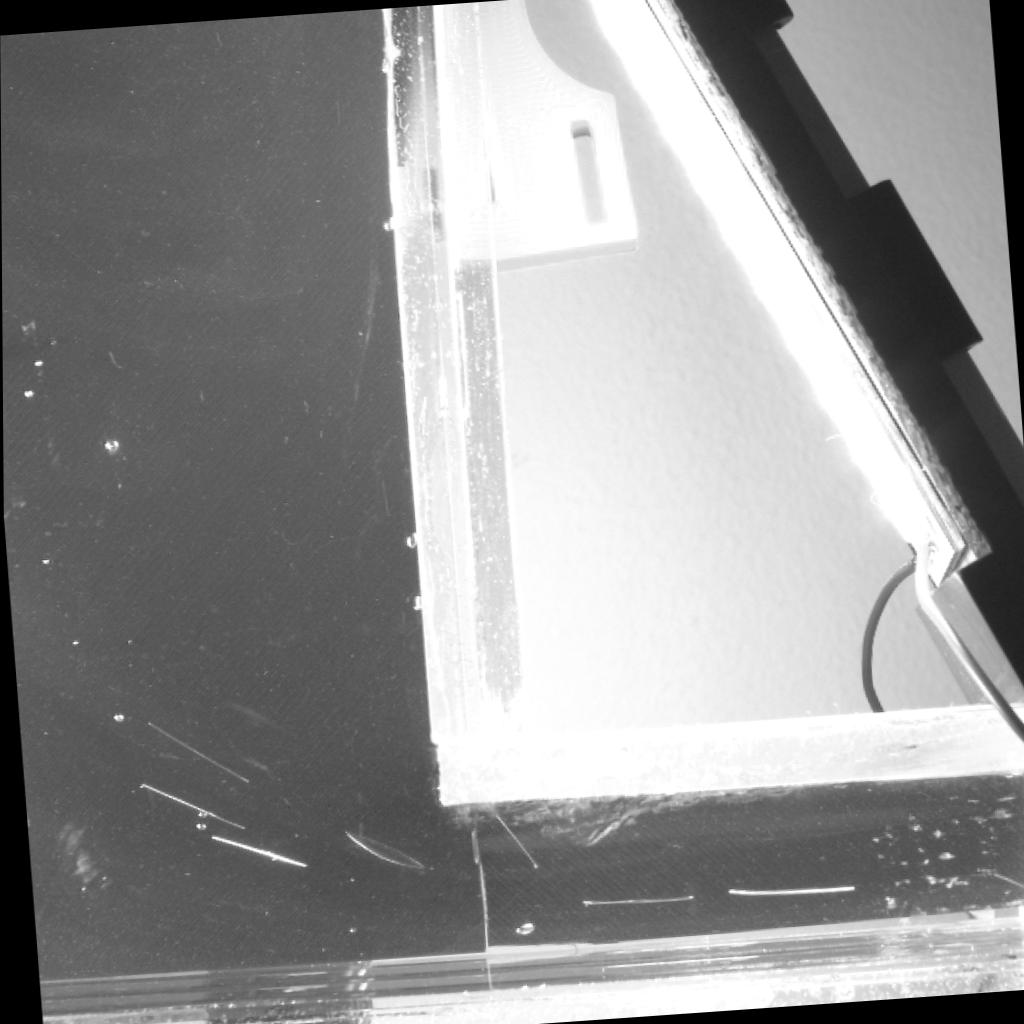Fiber: (142, 718, 255, 787), (137, 778, 245, 834), (207, 833, 307, 872), (489, 811, 540, 871), (725, 880, 855, 899), (579, 891, 694, 908), (991, 870, 1024, 891)
